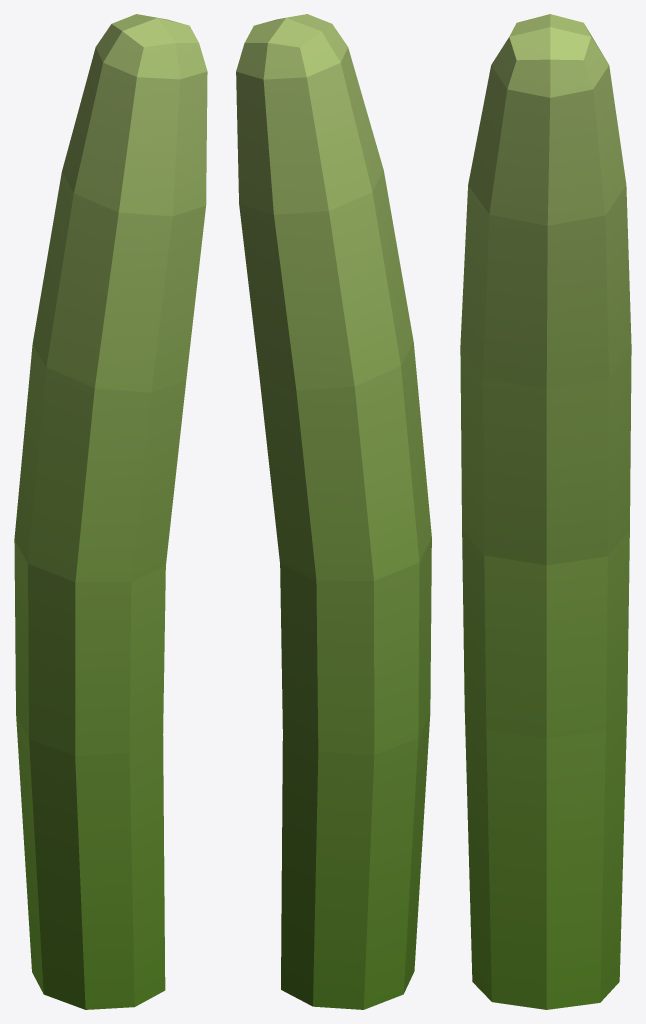
Rendered from cactus.fbx.
3 renders of one model, left to right at view 1: azimuth 30°, elevation 25°; view 2: azimuth 150°, elevation 25°; view 3: azimuth 270°, elevation 25°, orthographic. The views are drawn at different scales.
Parts seen in each view (by area): view 1: cactus; view 2: cactus; view 3: cactus.
Boxes of the visible parts, bbox=[...] form: cactus: bbox=[14, 14, 207, 1009]; cactus: bbox=[236, 14, 431, 1009]; cactus: bbox=[460, 14, 631, 1009].
Size of the model in its own units: 47.1 by 245 by 38.56.
